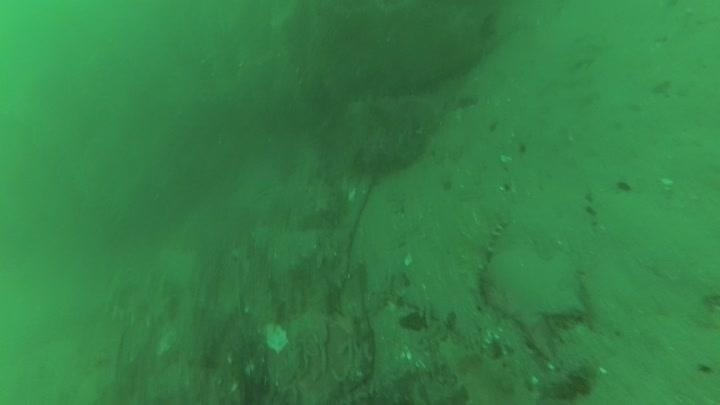holothurian: (453, 206, 510, 303)
